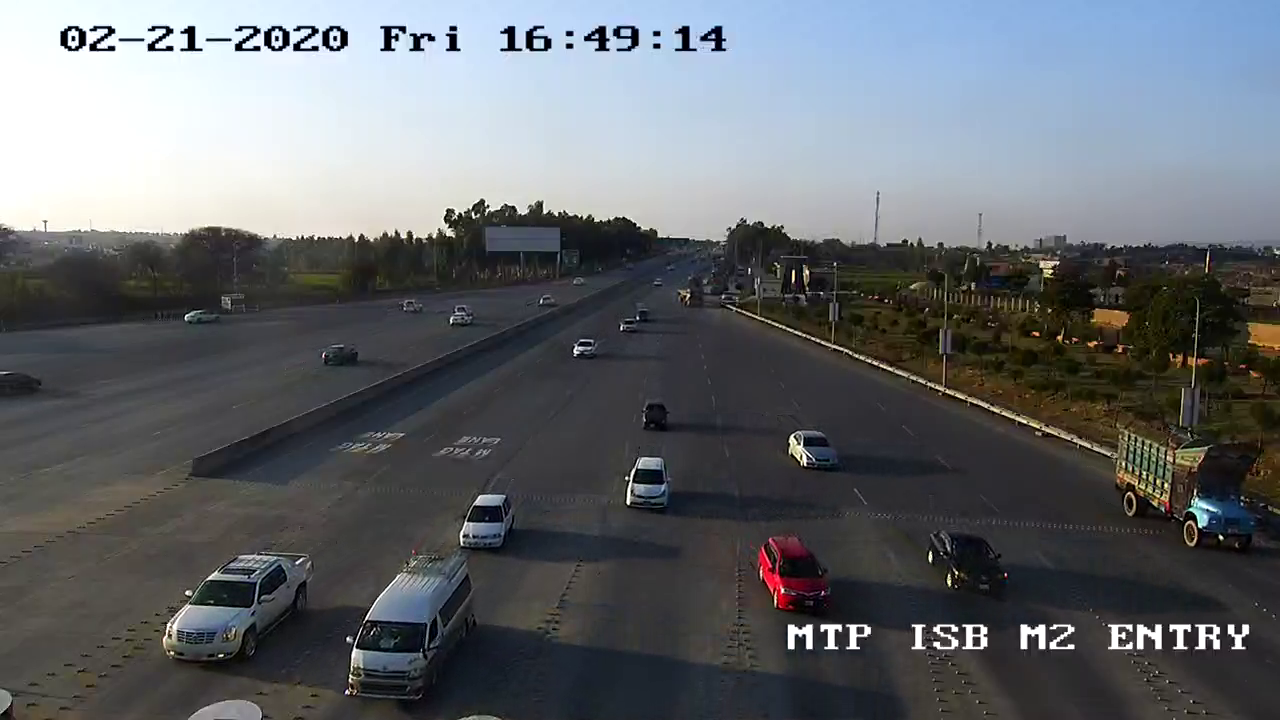f1: (151, 541, 322, 677), (746, 531, 846, 621), (919, 524, 1020, 609), (451, 486, 520, 557), (614, 448, 677, 515), (779, 423, 845, 483)
f2: (331, 551, 483, 715)
f5: (1109, 405, 1272, 566)
